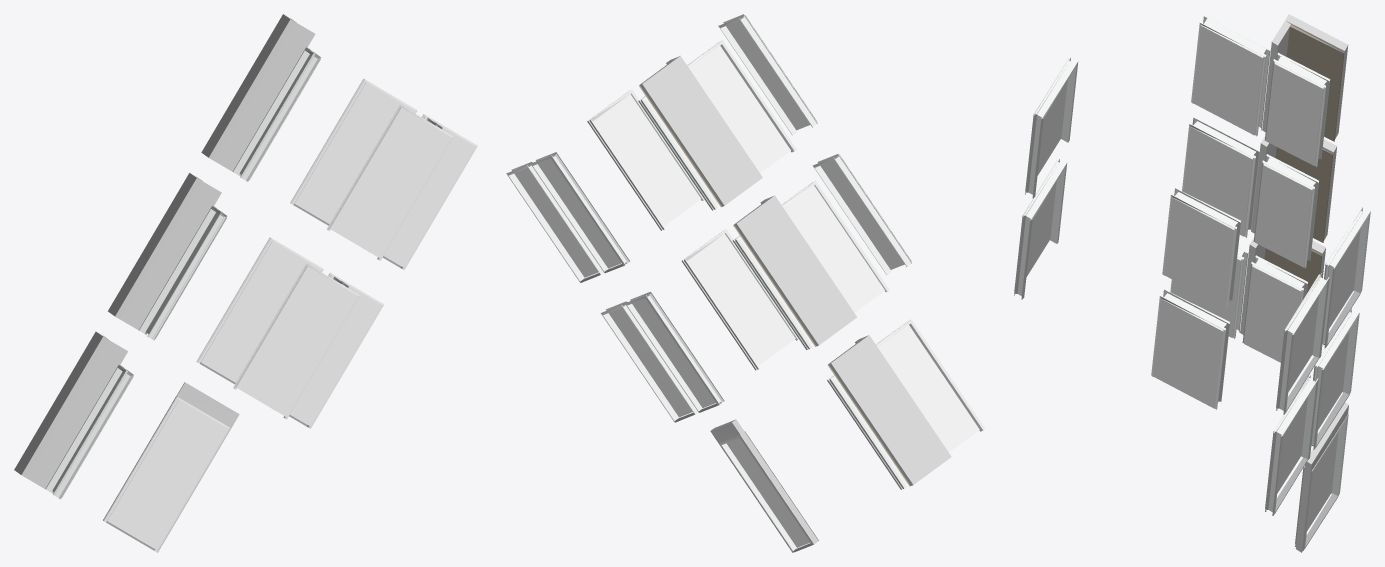
3 views of the same model, side by side, from view 1: azimuth 30°, elevation 25°; view 2: azimuth 150°, elevation 25°; view 3: azimuth 270°, elevation 25° (orthographic). The views are drawn at different scales.
Parts seen in each view (by area): view 1: mesh; view 2: mesh; view 3: mesh.
Boxes of the visible parts, <box> form: mesh: <box>14,14,477,552</box>; mesh: <box>506,14,985,552</box>; mesh: <box>1014,14,1370,552</box>.
Size of the model in its own units: 8.89 by 9.09 by 4.78.
